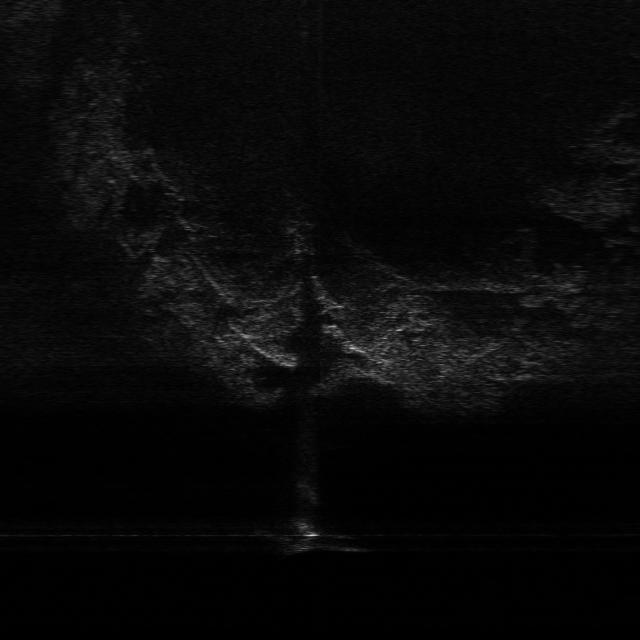plane: (248, 514, 372, 556)
